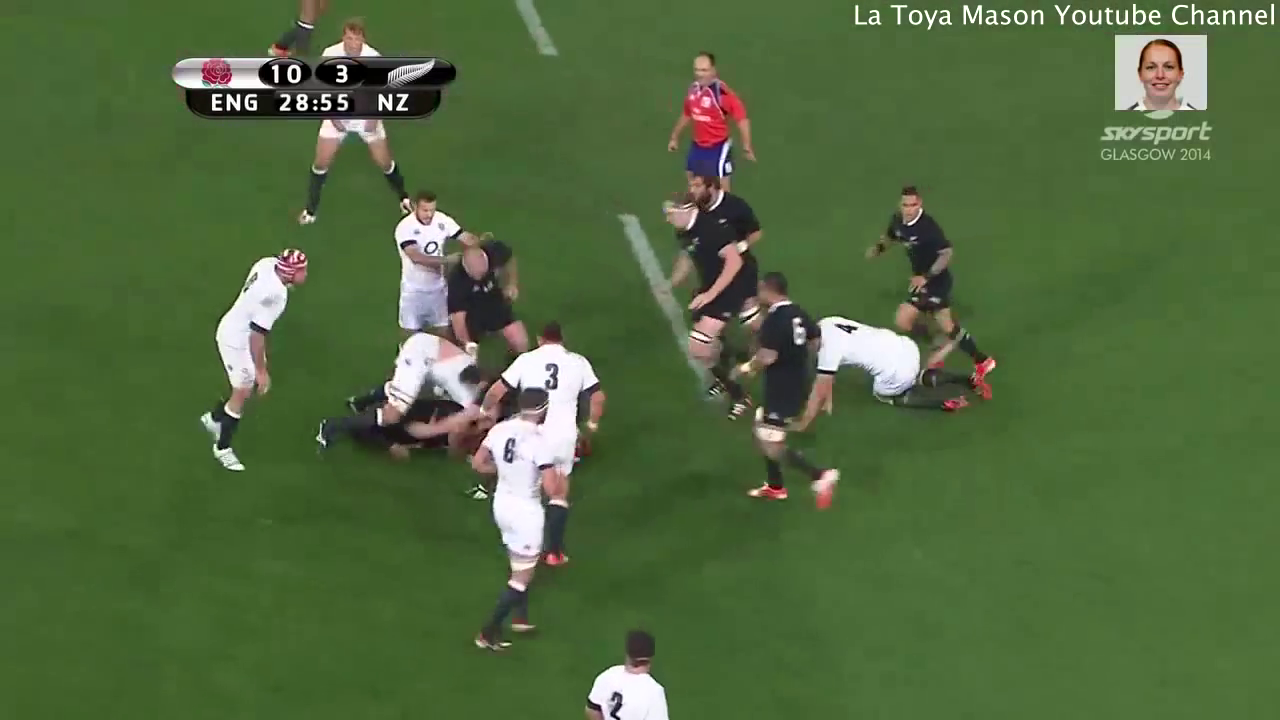player: (479, 317, 604, 565), (732, 269, 853, 514), (862, 180, 1003, 379), (465, 384, 567, 658), (193, 246, 315, 473), (653, 196, 758, 426), (810, 310, 982, 426), (315, 331, 478, 452), (660, 47, 761, 190), (389, 190, 476, 349), (439, 234, 526, 357), (582, 626, 671, 720), (681, 166, 764, 260)
